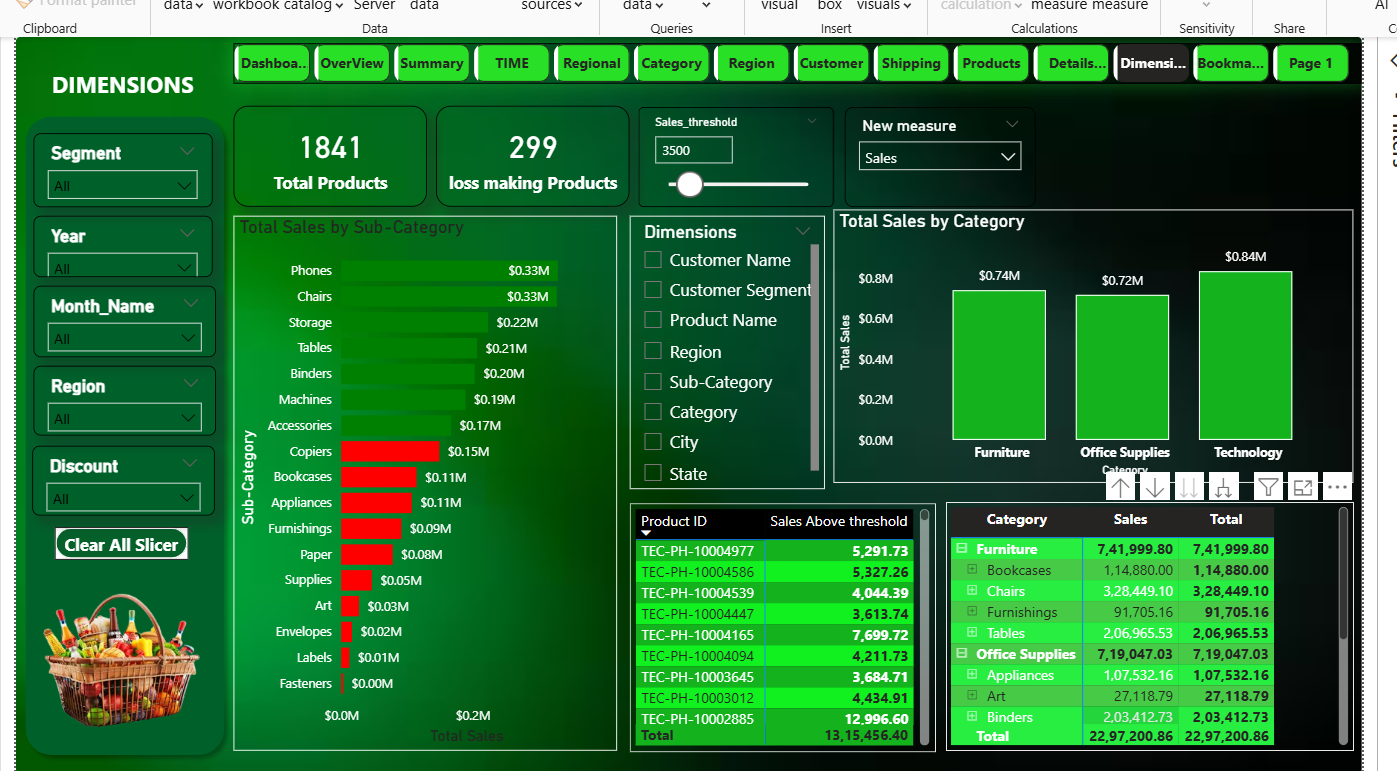

This screenshot's page, from the dashboard's own definition file:
{"tool":"powerbi","page":{"name":"Dimensions","canvas":[1280,700],"ordinal":11},"visuals":[{"type":"image","box":[0,0,1280.2,700.8],"z":0},{"type":"shape","box":[0,66.6,206.9,625.3],"z":1000},{"type":"textbox","box":[26.2,83.2,108.2,44],"z":2000},{"type":"textbox","box":[13.1,25,177.1,41.6],"z":3000},{"type":"slicer","fields":{"Values":["date_table.Month_Name"]},"box":[16.6,236.6,173.6,67.8],"z":4000},{"type":"slicer","fields":{"Values":["date_table.Year"]},"box":[16.6,170,170,58.3],"z":5000},{"type":"slicer","fields":{"Values":["Superstore.Region"]},"box":[16.6,312.7,173.6,66.6],"z":6000},{"type":"shape","box":[36.9,466,127.2,30.9],"z":7000},{"type":"card","fields":{"Values":["All measures.Total Products"]},"box":[206.9,65.4,184.3,96.3],"z":8000},{"type":"card","fields":{"Values":["All measures.loss making Products"]},"box":[399.5,65.4,184.3,96.3],"z":9000},{"type":"slicer","fields":{"Values":["Superstore.Discount"]},"box":[15.5,388.8,173.6,66.6],"z":10000},{"type":"image","box":[20.2,513.6,159.3,165.3],"z":11000},{"type":"slicer","fields":{"Values":["Superstore.Segment"]},"box":[16.6,91.5,170,70.1],"z":12000},{"type":"clusteredBarChart","fields":{"Category":["Superstore.Sub-Category"],"Y":["All measures.Total Sales"]},"box":[206.9,170,365,508.8],"z":13000},{"type":"slicer","fields":{"Values":["Dimensions.Dimensions"]},"box":[583.7,170,185.5,260.4],"z":14000},{"type":"clusteredColumnChart","fields":{"Category":["Superstore.Customer Name","Superstore.Customer Segment","Superstore.Product Name","Superstore.Region","Superstore.Sub-Category","Superstore.Category","Superstore.City","Superstore.State"],"Y":["All measures.Total Sales"]},"box":[777.5,164.1,494.6,260.4],"z":15000},{"type":"slicer","fields":{"Values":["Sales_threshold.Sales_threshold"]},"box":[592.1,66.6,185.5,95.1],"z":16000},{"type":"pivotTable","fields":{"Rows":["Superstore.Product ID"],"Values":["All measures.Sales Above threshold"]},"box":[583.7,443.4,291.3,236.6],"z":17000},{"type":"pivotTable","fields":{"Columns":["Superstore (2).New measure"],"Rows":["Superstore (2).Category","Superstore (2).Sub-Category","Superstore (2).Segment"],"Values":["Sum(Superstore (2).Value)"]},"box":[884.5,442.3,387.6,236.6],"z":18000},{"type":"slicer","fields":{"Values":["Superstore (2).New measure"]},"box":[788.2,66.6,181.9,95.1],"z":19000},{"type":"pageNavigator","box":[206.9,5.9,1073.5,38],"z":20001}]}

Visuals, with their boxes on the page's 1280x700 design canvas (x1, y1, x2, y2). These are canvas units, not pixel positions in the 1397x771 screenshot, which may show the page scaled, cropped or inside an application window:
image: (left=0, top=0, right=1280, bottom=701)
shape: (left=0, top=67, right=207, bottom=692)
textbox: (left=26, top=83, right=134, bottom=127)
textbox: (left=13, top=25, right=190, bottom=67)
slicer - date_table.Month_Name: (left=17, top=237, right=190, bottom=304)
slicer - date_table.Year: (left=17, top=170, right=187, bottom=228)
slicer - Superstore.Region: (left=17, top=313, right=190, bottom=379)
shape: (left=37, top=466, right=164, bottom=497)
card - All measures.Total Products: (left=207, top=65, right=391, bottom=162)
card - All measures.loss making Products: (left=400, top=65, right=584, bottom=162)
slicer - Superstore.Discount: (left=16, top=389, right=189, bottom=455)
image: (left=20, top=514, right=180, bottom=679)
slicer - Superstore.Segment: (left=17, top=92, right=187, bottom=162)
clusteredBarChart - Superstore.Sub-Category x All measures.Total Sales: (left=207, top=170, right=572, bottom=679)
slicer - Dimensions.Dimensions: (left=584, top=170, right=769, bottom=430)
clusteredColumnChart - Superstore.Customer Name x Superstore.Customer Segment: (left=778, top=164, right=1272, bottom=424)
slicer - Sales_threshold.Sales_threshold: (left=592, top=67, right=778, bottom=162)
pivotTable - Superstore.Product ID x All measures.Sales Above threshold: (left=584, top=443, right=875, bottom=680)
pivotTable - Superstore (2).New measure x Superstore (2).Category: (left=884, top=442, right=1272, bottom=679)
slicer - Superstore (2).New measure: (left=788, top=67, right=970, bottom=162)
pageNavigator: (left=207, top=6, right=1280, bottom=44)
